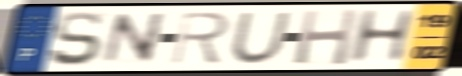H: (345, 8, 420, 66), (291, 7, 361, 67)
N: (98, 11, 170, 66)
R: (168, 10, 233, 67)
S: (47, 10, 105, 69)
U: (228, 10, 295, 66)
